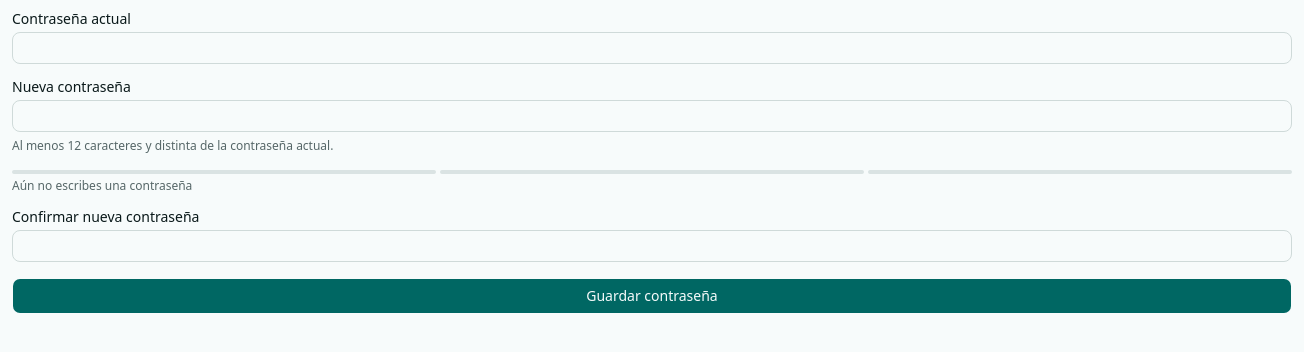
Test: PasswordChangeForm: checks before it asks the API › wants the confirmation to match
Type "the-old-password-1" into the password field labelled "Contraseña actual" at [652, 48], box [12,32,1292,64]
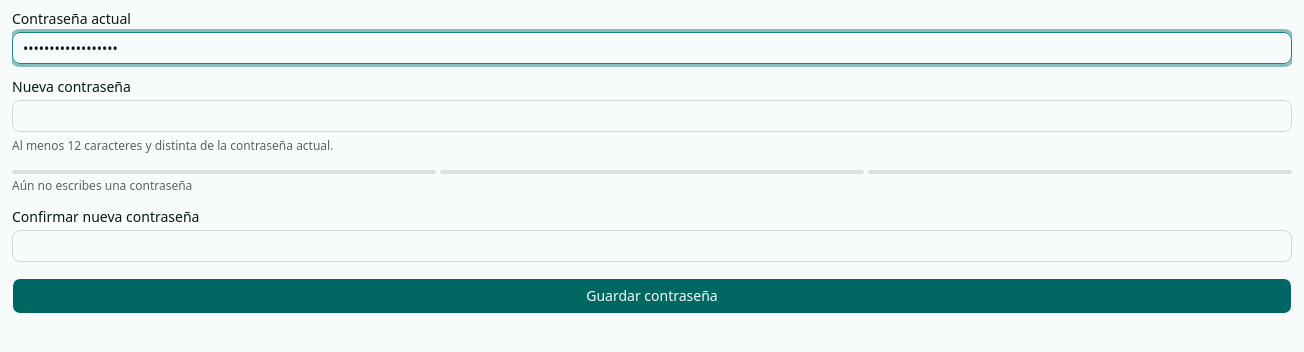
Type "a-brand-new-password" into the password field labelled "Nueva contraseña" at [652, 116], box [12,100,1292,132]
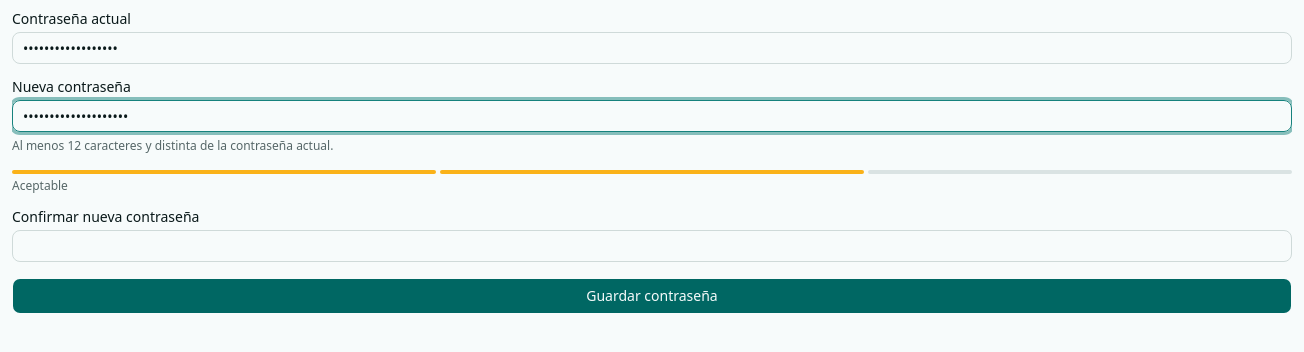
Type "a-different-password" into the password field labelled "Confirmar nueva contraseña" at [652, 246], box [12,230,1292,262]
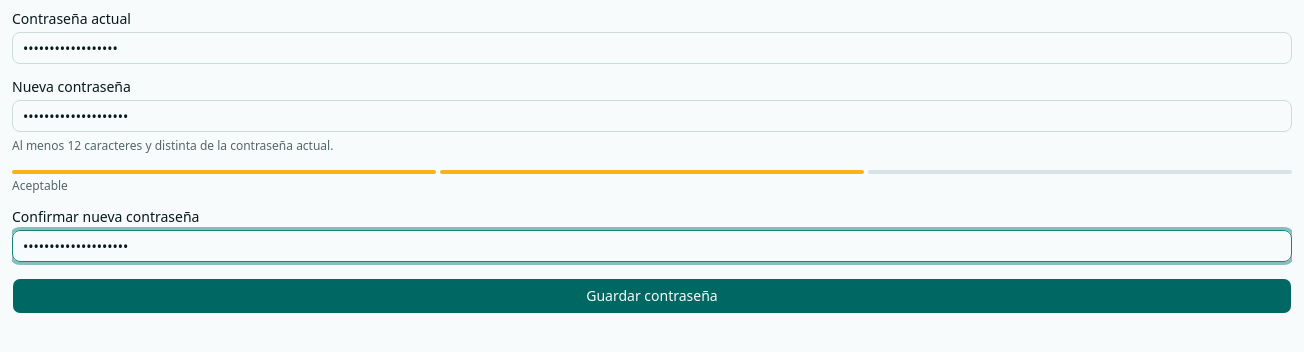
Click the button "Guardar contraseña" at [652, 296], box [12,278,1292,314]
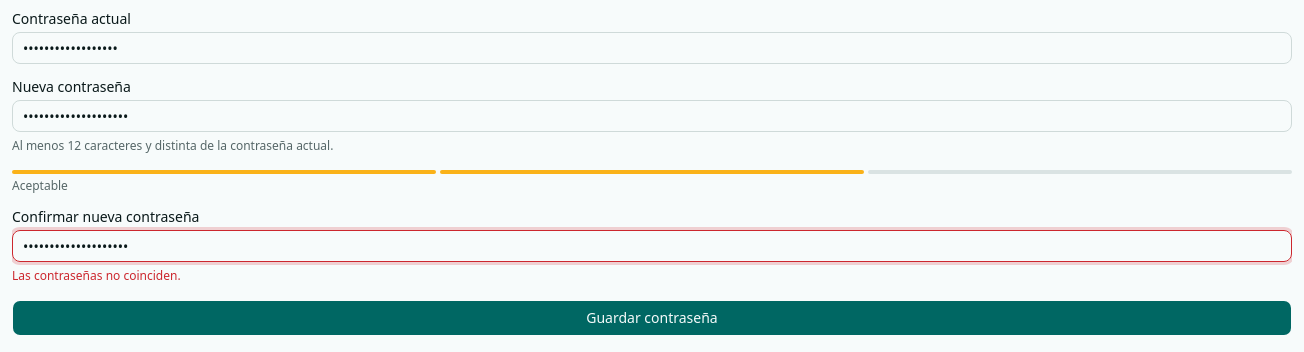
Now the text "Las contraseñas no coinciden." is shown, box [12,267,181,284]
